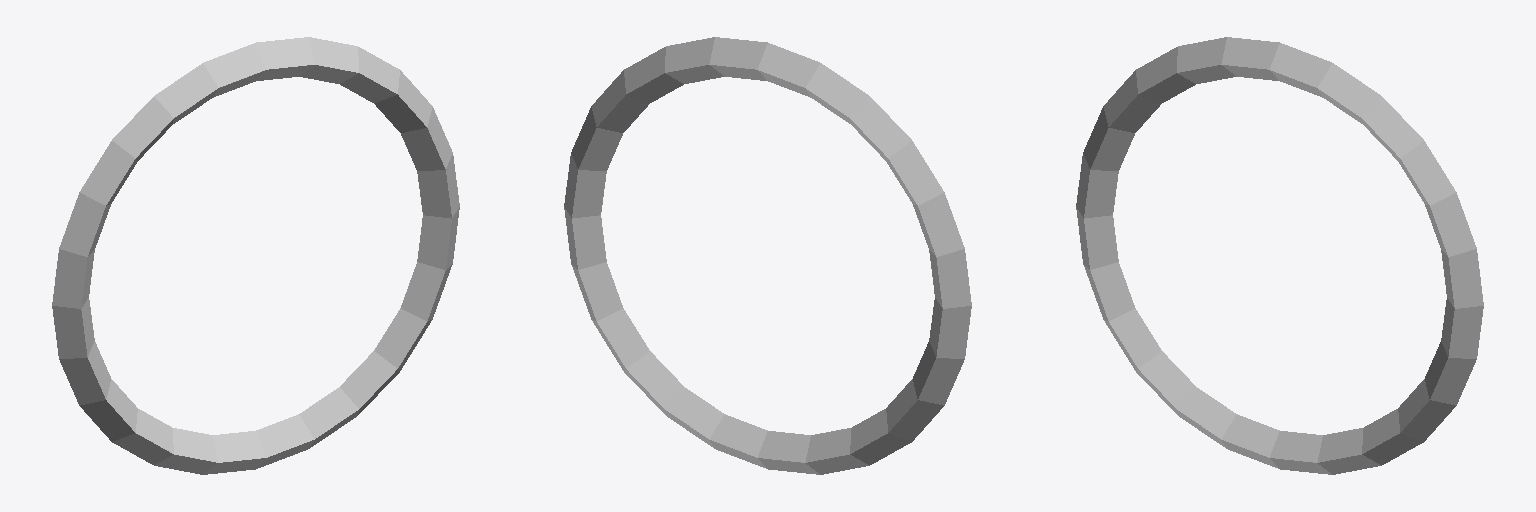
File: goal.obj
3 renders of one model, left to right at view 1: azimuth 30°, elevation 25°; view 2: azimuth 150°, elevation 25°; view 3: azimuth 330°, elevation 25°, orthographic.
Visible parts, largest first — view 1: Torus.001; view 2: Torus.001; view 3: Torus.001.
Part boxes in pixels (x1,y1,x2,y2): Torus.001: (52,37,459,474); Torus.001: (564,37,971,474); Torus.001: (1076,37,1483,474).
Size of the model in its own units: 2.2 by 2.2 by 0.2.